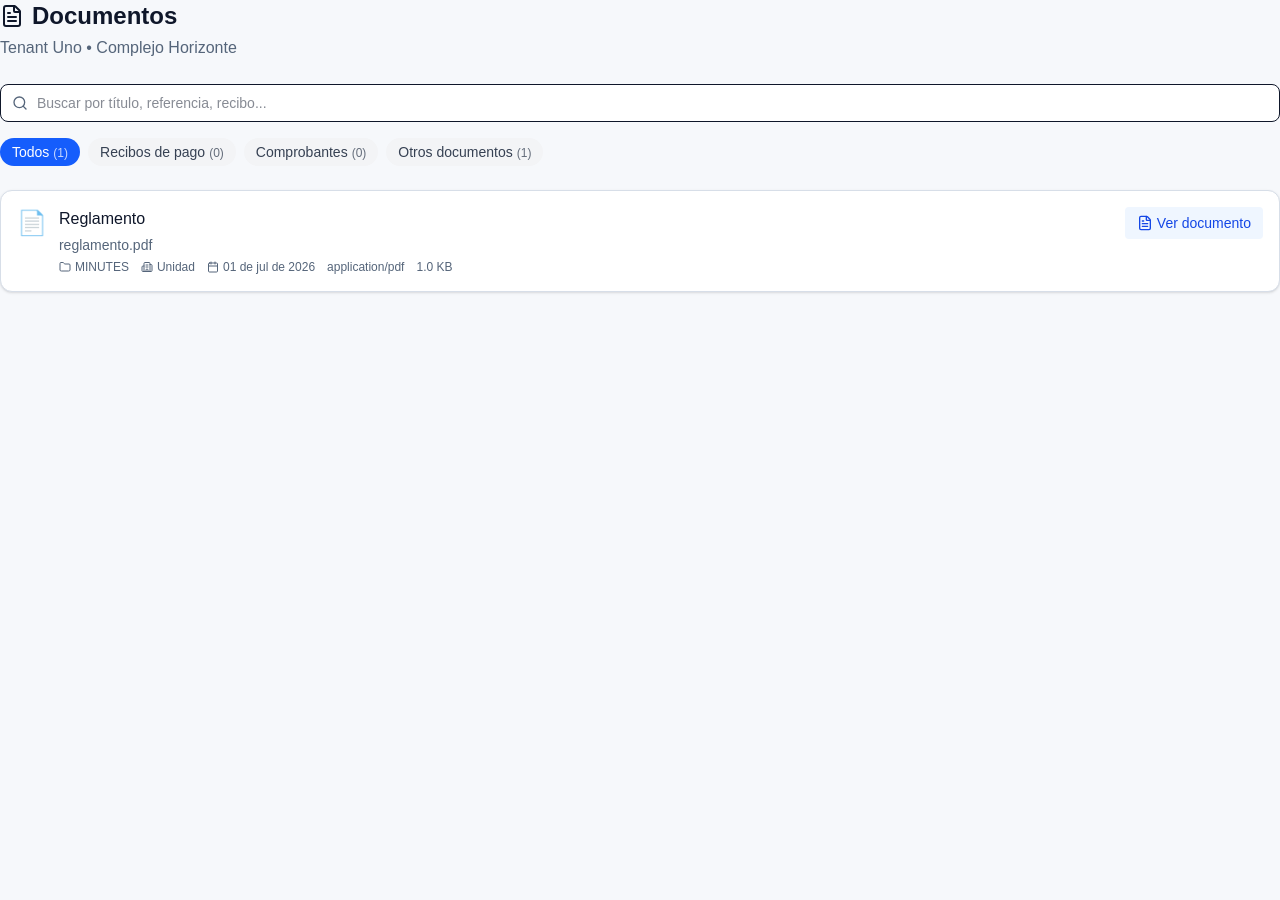
Test: ResidentDocumentsPage › surfaces an opening error
Click the button with aria-label "ver documento reglamento". click: click(1194, 223)
box: 1125,207 -> 1263,239
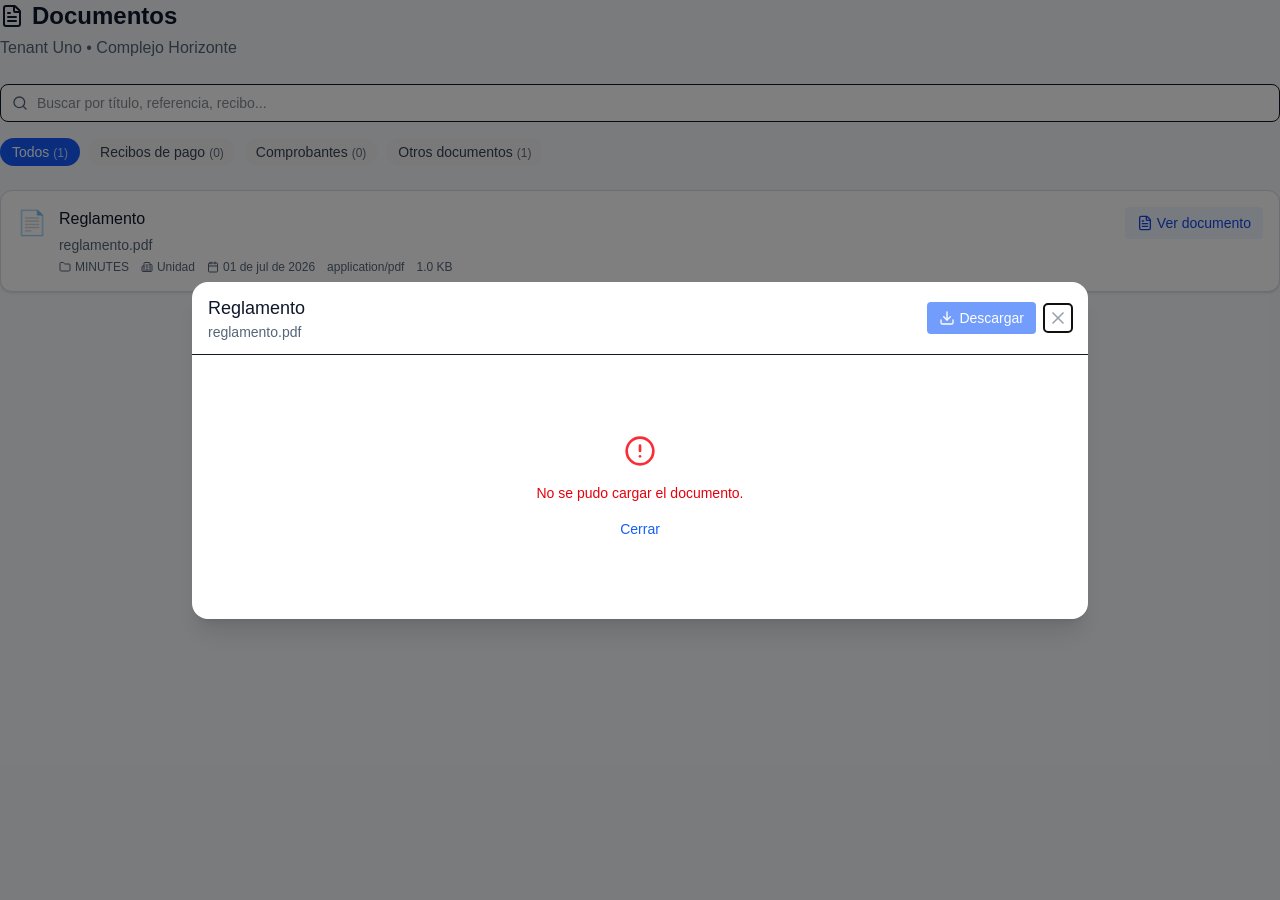
Expected: the text "No se pudo cargar el documento." is shown, 536,482 -> 744,502
